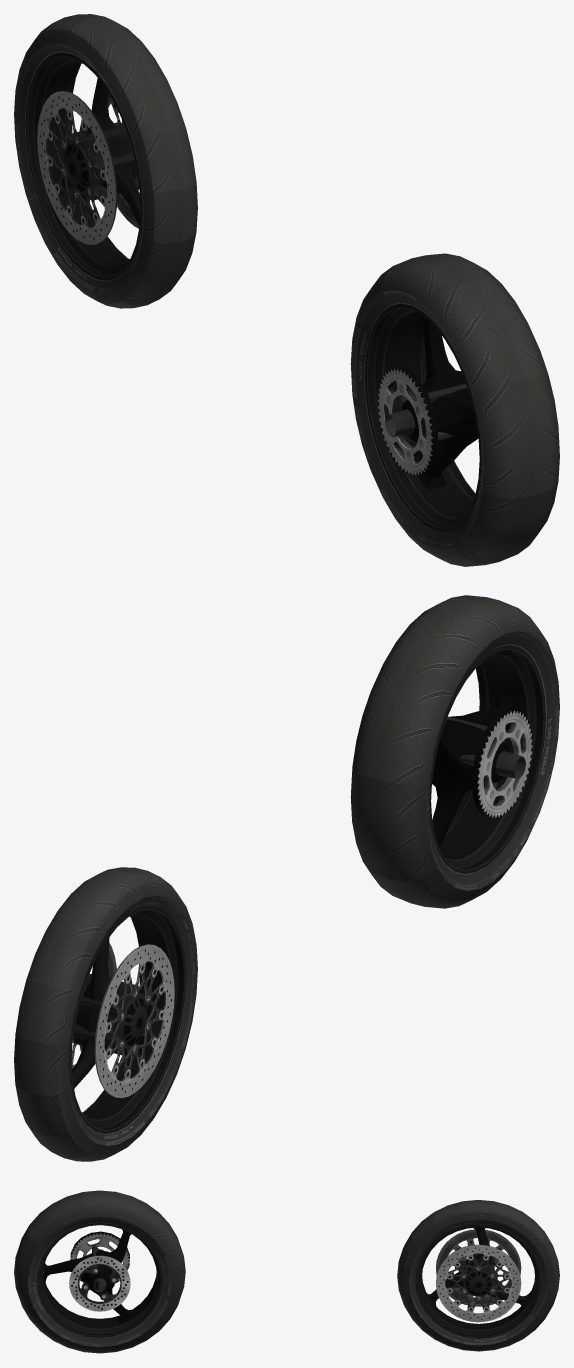
Rendered from motorWheels.fbx.
3 views of the same model, one above another, from view 1: azimuth 30°, elevation 25°; view 2: azimuth 150°, elevation 25°; view 3: azimuth 270°, elevation 25° (orthographic). The views are drawn at different scales.
Visible parts, largest first — view 1: wheel-B, wheel-F; view 2: wheel-B, wheel-F; view 3: wheel-B, wheel-F.
Boxes of the visible parts, bbox=[...] form: wheel-B: bbox=[350, 253, 559, 566]; wheel-F: bbox=[14, 14, 197, 308]; wheel-B: bbox=[350, 595, 559, 908]; wheel-F: bbox=[14, 867, 197, 1161]; wheel-B: bbox=[14, 1190, 185, 1353]; wheel-F: bbox=[397, 1200, 559, 1351].
Bounding box in the file's own units: 0.2778 × 0.6305 × 2.
Materials: 2 (2 with a texture image).
